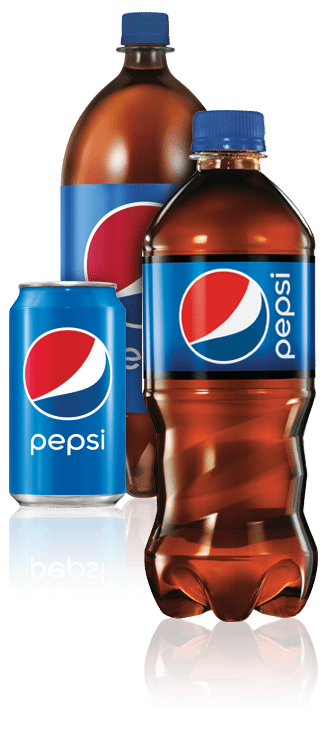pepsi: (83, 201, 165, 331), (83, 203, 165, 331), (175, 268, 269, 363), (23, 324, 111, 420), (25, 324, 111, 420)
